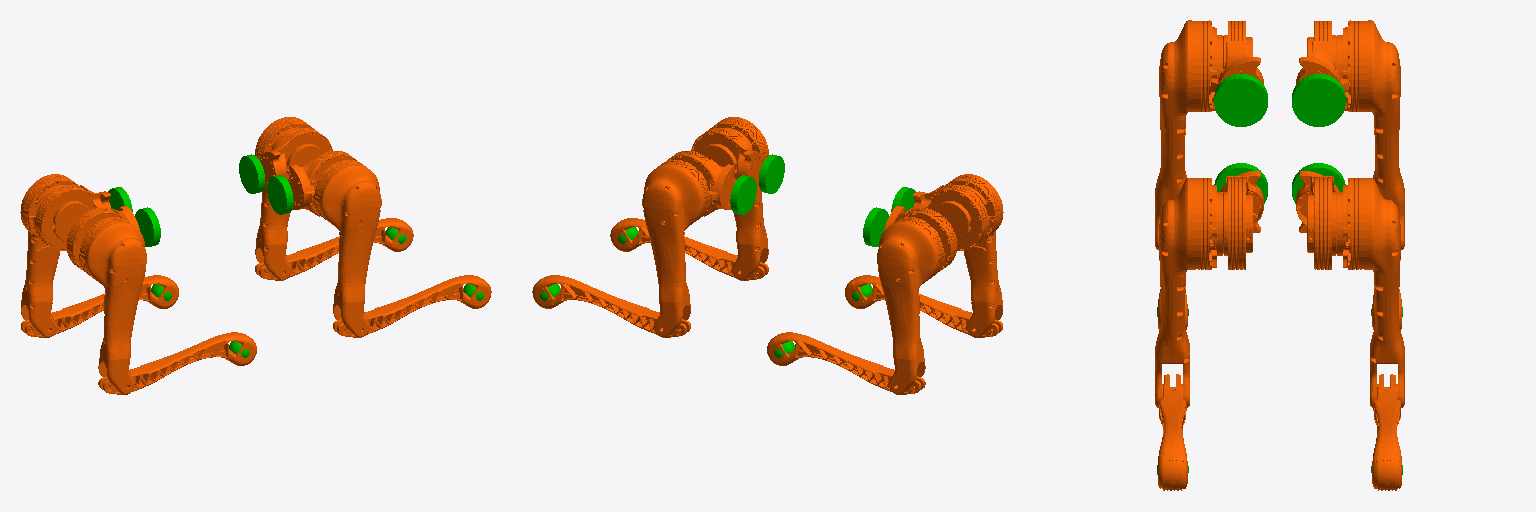
--- Render facts (derived) ---
The picture shows the robot from 3 angles, left to right: view 1: azimuth 30°, elevation 25°; view 2: azimuth 150°, elevation 25°; view 3: azimuth 270°, elevation 25°; orthographic projection.
Model b1_description with 31 links and 30 joints (12 revolute, 18 fixed), rooted at base, posed joints at zero except 4 at the middle of their limits (FR_calf_joint = -1.6, FL_calf_joint = -1.6, RR_calf_joint = -1.6, RL_calf_joint = -1.6).
Links seen in each view (by area): view 1: FR_thigh, RR_thigh, RL_thigh, FL_thigh, FR_calf, RR_calf, RL_hip, FL_hip, FL_calf, RL_calf, FR_hip, RR_hip (+3 smaller); view 2: FL_thigh, RL_thigh, RR_thigh, FR_thigh, FL_calf, RL_calf, RR_hip, FR_hip, FR_calf, RR_calf, FL_hip, RL_hip (+3 smaller); view 3: FR_thigh, FL_thigh, RL_thigh, RR_thigh, FR_hip, FL_hip, FR_calf, FL_calf, RR_hip_rotor, RL_hip_rotor, RR_hip, RL_hip (+2 smaller).
Boxes of the visible links, x1=… form: FR_thigh: x1=313, y1=160, x2=381, y2=337; RR_thigh: x1=79, y1=217, x2=146, y2=394; RL_thigh: x1=20, y1=174, x2=78, y2=337; FL_thigh: x1=255, y1=117, x2=314, y2=280; FR_calf: x1=333, y1=275, x2=491, y2=337; RR_calf: x1=98, y1=332, x2=256, y2=394; RL_hip: x1=35, y1=185, x2=110, y2=250; FL_hip: x1=260, y1=128, x2=332, y2=187; FL_calf: x1=255, y1=218, x2=413, y2=280; RL_calf: x1=21, y1=275, x2=178, y2=337; FR_hip: x1=288, y1=151, x2=356, y2=216; RR_hip: x1=67, y1=206, x2=139, y2=271; FL_thigh: x1=642, y1=160, x2=710, y2=337; RL_thigh: x1=877, y1=217, x2=944, y2=394; RR_thigh: x1=945, y1=174, x2=1003, y2=337; FR_thigh: x1=709, y1=117, x2=768, y2=280; FL_calf: x1=532, y1=275, x2=690, y2=337; RL_calf: x1=767, y1=332, x2=925, y2=394; RR_hip: x1=913, y1=185, x2=988, y2=250; FR_hip: x1=691, y1=128, x2=763, y2=187; FR_calf: x1=610, y1=218, x2=768, y2=280; RR_calf: x1=845, y1=275, x2=1002, y2=337; FL_hip: x1=667, y1=151, x2=735, y2=216; RL_hip: x1=884, y1=206, x2=956, y2=271; FR_thigh: x1=1155, y1=178, x2=1222, y2=407; FL_thigh: x1=1337, y1=178, x2=1404, y2=407; RL_thigh: x1=1337, y1=20, x2=1404, y2=249; RR_thigh: x1=1155, y1=20, x2=1222, y2=249; FR_hip: x1=1220, y1=171, x2=1263, y2=269; FL_hip: x1=1296, y1=171, x2=1339, y2=269; FR_calf: x1=1158, y1=374, x2=1187, y2=490; FL_calf: x1=1372, y1=374, x2=1401, y2=490; RR_hip_rotor: x1=1214, y1=74, x2=1267, y2=126; RL_hip_rotor: x1=1292, y1=74, x2=1345, y2=126; RR_hip: x1=1211, y1=21, x2=1263, y2=90; RL_hip: x1=1296, y1=21, x2=1348, y2=90.
Size in the robot's own frame: 1.17 by 0.4615 by 0.465 metres.
Meshes: 5 distinct files referenced, 12 mesh visuals loaded (4 Collada DAE); not drawn: 1 (reference not matched to a file when rendering).

The robot description file, URDF, robot "b1_description":
<?xml version="1.0" ?>
<!-- =================================================================================== -->
<!-- |    This document was autogenerated by xacro from robot.xacro                    | -->
<!-- |    EDITING THIS FILE BY HAND IS NOT RECOMMENDED                                 | -->
<!-- =================================================================================== -->
<robot name="b1_description">
  <material name="black">
    <color rgba="0.0 0.0 0.0 1.0"/>
  </material>
  <material name="blue">
    <color rgba="0.0 0.0 0.8 1.0"/>
  </material>
  <material name="green">
    <color rgba="0.0 0.8 0.0 1.0"/>
  </material>
  <material name="grey">
    <color rgba="0.2 0.2 0.2 1.0"/>
  </material>
  <material name="silver">
    <color rgba="0.9137254901960784 0.9137254901960784 0.8470588235294118 1.0"/>
  </material>
  <material name="orange">
    <color rgba="1.0 0.4235294117647059 0.0392156862745098 1.0"/>
  </material>
  <material name="brown">
    <color rgba="0.8705882352941177 0.8117647058823529 0.7647058823529411 1.0"/>
  </material>
  <material name="red">
    <color rgba="0.8 0.0 0.0 1.0"/>
  </material>
  <material name="white">
    <color rgba="1.0 1.0 1.0 1.0"/>
  </material>
  <!-- ros_control plugin -->
  <gazebo>
    <plugin filename="libgazebo_ros_control.so" name="gazebo_ros_control">
      <robotNamespace>/aliengo_gazebo</robotNamespace>
      <robotSimType>gazebo_ros_control/DefaultRobotHWSim</robotSimType>
    </plugin>
  </gazebo>
  <!-- Show the trajectory of trunk center. -->
  <gazebo>
    <plugin filename="libLinkPlot3DPlugin.so" name="3dplot">
      <frequency>10</frequency>
      <plot>
        <link>base</link>
        <pose>0 0 0 0 0 0</pose>
        <material>Gazebo/Yellow</material>
      </plot>
    </plugin>
  </gazebo>
  <!-- Show the trajectory of foot. You can add another trajectory about another foot. -->
  <!-- <gazebo>
        <plugin name="3dplot" filename="libLinkPlot3DPlugin.so">
            <frequency>100</frequency>
            <plot>
                <link>FL_foot</link>
                <pose>0 0 0 0 0 0</pose>
                <material>Gazebo/Green</material>
            </plot>
        </plugin>
    </gazebo> -->
  <gazebo>
    <plugin filename="libgazebo_ros_force.so" name="gazebo_ros_force">
      <bodyName>trunk</bodyName>
      <topicName>/apply_force/trunk</topicName>
    </plugin>
  </gazebo>
  <gazebo reference="imu_link">
    <gravity>true</gravity>
    <sensor name="imu_sensor" type="imu">
      <always_on>true</always_on>
      <update_rate>1000</update_rate>
      <visualize>true</visualize>
      <topic>__default_topic__</topic>
      <plugin filename="libgazebo_ros_imu_sensor.so" name="imu_plugin">
        <topicName>trunk_imu</topicName>
        <bodyName>imu_link</bodyName>
        <updateRateHZ>1000.0</updateRateHZ>
        <gaussianNoise>0.0</gaussianNoise>
        <xyzOffset>0 0 0</xyzOffset>
        <rpyOffset>0 0 0</rpyOffset>
        <frameName>imu_link</frameName>
      </plugin>
      <pose>0 0 0 0 0 0</pose>
    </sensor>
  </gazebo>
  <!-- Foot contacts. -->
  <gazebo reference="FR_calf">
    <sensor name="FR_foot_contact" type="contact">
      <update_rate>100</update_rate>
      <plugin filename="libunitreeFootContactPlugin.so" name="contactPlugin"/>
      <contact>
        <collision>FR_calf_fixed_joint_lump__FR_foot_collision_1</collision>
      </contact>
    </sensor>
  </gazebo>
  <gazebo reference="FL_calf">
    <sensor name="FL_foot_contact" type="contact">
      <update_rate>100</update_rate>
      <plugin filename="libunitreeFootContactPlugin.so" name="contactPlugin"/>
      <contact>
        <collision>FL_calf_fixed_joint_lump__FL_foot_collision_1</collision>
      </contact>
    </sensor>
  </gazebo>
  <gazebo reference="RR_calf">
    <sensor name="RR_foot_contact" type="contact">
      <update_rate>100</update_rate>
      <plugin filename="libunitreeFootContactPlugin.so" name="contactPlugin"/>
      <contact>
        <collision>RR_calf_fixed_joint_lump__RR_foot_collision_1</collision>
      </contact>
    </sensor>
  </gazebo>
  <gazebo reference="RL_calf">
    <sensor name="RL_foot_contact" type="contact">
      <update_rate>100</update_rate>
      <plugin filename="libunitreeFootContactPlugin.so" name="contactPlugin"/>
      <contact>
        <collision>RL_calf_fixed_joint_lump__RL_foot_collision_1</collision>
      </contact>
    </sensor>
  </gazebo>
  <!-- Visualization of Foot contacts. -->
  <gazebo reference="FR_foot">
    <visual>
      <plugin filename="libunitreeDrawForcePlugin.so" name="drawForcePlugin">
        <topicName>FR_foot_contact</topicName>
      </plugin>
    </visual>
  </gazebo>
  <gazebo reference="FL_foot">
    <visual>
      <plugin filename="libunitreeDrawForcePlugin.so" name="drawForcePlugin">
        <topicName>FL_foot_contact</topicName>
      </plugin>
    </visual>
  </gazebo>
  <gazebo reference="RR_foot">
    <visual>
      <plugin filename="libunitreeDrawForcePlugin.so" name="drawForcePlugin">
        <topicName>RR_foot_contact</topicName>
      </plugin>
    </visual>
  </gazebo>
  <gazebo reference="RL_foot">
    <visual>
      <plugin filename="libunitreeDrawForcePlugin.so" name="drawForcePlugin">
        <topicName>RL_foot_contact</topicName>
      </plugin>
    </visual>
  </gazebo>
  <gazebo reference="base">
    <material>Gazebo/Green</material>
    <turnGravityOff>false</turnGravityOff>
  </gazebo>
  <gazebo reference="trunk">
    <mu1>0.2</mu1>
    <mu2>0.2</mu2>
    <kp value="1000000.0"/>
    <kd value="1.0"/>
  </gazebo>
  <gazebo reference="stick_link">
    <mu1>0.2</mu1>
    <mu2>0.2</mu2>
    <material>Gazebo/White</material>
  </gazebo>
  <gazebo reference="imu_link">
    <mu1>0.2</mu1>
    <mu2>0.2</mu2>
    <material>Gazebo/Red</material>
  </gazebo>
  <!-- FL leg -->
  <gazebo reference="FL_hip">
    <mu1>0.2</mu1>
    <mu2>0.2</mu2>
    <material>Gazebo/DarkGrey</material>
  </gazebo>
  <gazebo reference="FL_thigh">
    <mu1>0.2</mu1>
    <mu2>0.2</mu2>
    <self_collide>1</self_collide>
    <material>Gazebo/DarkGrey</material>
    <kp value="1000000.0"/>
    <kd value="1.0"/>
  </gazebo>
  <gazebo reference="FL_calf">
    <mu1>0.2</mu1>
    <mu2>0.2</mu2>
    <self_collide>1</self_collide>
  </gazebo>
  <gazebo reference="FL_foot">
    <mu1>0.6</mu1>
    <mu2>0.6</mu2>
    <self_collide>1</self_collide>
    <material>Gazebo/DarkGrey</material>
    <kp value="1000000.0"/>
    <kd value="1.0"/>
  </gazebo>
  <!-- FR leg -->
  <gazebo reference="FR_hip">
    <mu1>0.2</mu1>
    <mu2>0.2</mu2>
    <material>Gazebo/DarkGrey</material>
  </gazebo>
  <gazebo reference="FR_thigh">
    <mu1>0.2</mu1>
    <mu2>0.2</mu2>
    <self_collide>1</self_collide>
    <material>Gazebo/DarkGrey</material>
    <kp value="1000000.0"/>
    <kd value="1.0"/>
  </gazebo>
  <gazebo reference="FR_calf">
    <mu1>0.2</mu1>
    <mu2>0.2</mu2>
    <self_collide>1</self_collide>
  </gazebo>
  <gazebo reference="FR_foot">
    <mu1>0.6</mu1>
    <mu2>0.6</mu2>
    <self_collide>1</self_collide>
    <material>Gazebo/DarkGrey</material>
    <kp value="1000000.0"/>
    <kd value="1.0"/>
  </gazebo>
  <!-- RL leg -->
  <gazebo reference="RL_hip">
    <mu1>0.2</mu1>
    <mu2>0.2</mu2>
    <material>Gazebo/DarkGrey</material>
  </gazebo>
  <gazebo reference="RL_thigh">
    <mu1>0.2</mu1>
    <mu2>0.2</mu2>
    <self_collide>1</self_collide>
    <material>Gazebo/DarkGrey</material>
    <kp value="1000000.0"/>
    <kd value="1.0"/>
  </gazebo>
  <gazebo reference="RL_calf">
    <mu1>0.2</mu1>
    <mu2>0.2</mu2>
    <self_collide>1</self_collide>
  </gazebo>
  <gazebo reference="RL_foot">
    <mu1>0.6</mu1>
    <mu2>0.6</mu2>
    <self_collide>1</self_collide>
    <material>Gazebo/DarkGrey</material>
    <kp value="1000000.0"/>
    <kd value="1.0"/>
  </gazebo>
  <!-- RR leg -->
  <gazebo reference="RR_hip">
    <mu1>0.2</mu1>
    <mu2>0.2</mu2>
    <material>Gazebo/DarkGrey</material>
  </gazebo>
  <gazebo reference="RR_thigh">
    <mu1>0.2</mu1>
    <mu2>0.2</mu2>
    <self_collide>1</self_collide>
    <material>Gazebo/DarkGrey</material>
    <kp value="1000000.0"/>
    <kd value="1.0"/>
  </gazebo>
  <gazebo reference="RR_calf">
    <mu1>0.2</mu1>
    <mu2>0.2</mu2>
    <self_collide>1</self_collide>
  </gazebo>
  <gazebo reference="RR_foot">
    <mu1>0.6</mu1>
    <mu2>0.6</mu2>
    <self_collide>1</self_collide>
    <material>Gazebo/DarkGrey</material>
    <kp value="1000000.0"/>
    <kd value="1.0"/>
  </gazebo>
  <!-- Rotor related joint and link is only for demonstrate location. -->
  <!-- Actually, the rotor will rotate and the joint is not fixed. Reduction ratio should be considered. -->
  <!-- Debug mode will hung up the robot, use "true" or "false" to switch it. -->
  <!-- <xacro:if value="$(arg DEBUG)">
        <link name="world"/>
        <joint name="base_static_joint" type="fixed">
            <origin rpy="0 0 0" xyz="0 0 0"/>
            <parent link="world"/>
            <child link="base"/>
        </joint>
    </xacro:if>  -->
  <link name="base">
    <visual>
      <origin rpy="0 0 0" xyz="0 0 0"/>
      <geometry>
        <box size="0.001 0.001 0.001"/>
      </geometry>
    </visual>
  </link>
  <joint name="floating_base" type="fixed">
    <origin rpy="0 0 0" xyz="0 0 0"/>
    <parent link="base"/>
    <child link="trunk"/>
  </joint>
  <link name="trunk">
    <visual>
      <origin rpy="0 0 0" xyz="0 0 0"/>
      <geometry>
        <mesh filename="package://b1_description/meshes/trunkb.dae" scale="1 1 1"/>
      </geometry>
      <material name="orange"/>
    </visual>
    <collision>
      <origin rpy="0 0 0" xyz="0 0 0"/>
      <geometry>
        <mesh filename="package://b1_description/meshes/trunkb.dae" scale="1 1 1"/>
      </geometry>
    </collision>
    <inertial>
      <origin rpy="0 0 0" xyz="0.008987 0.002243 0.003013"/>
      <mass value="29.45"/>
      <inertia ixx="0.183142146" ixy="-0.001379002" ixz="-0.027956055" iyy="0.756327752" iyz="0.000193774" izz="0.783777558"/>
    </inertial>
  </link>
  <joint name="imu_joint" type="fixed">
    <parent link="trunk"/>
    <child link="imu_link"/>
    <origin rpy="0 0 0" xyz="0 0 0"/>
  </joint>
  <link name="imu_link">
    <inertial>
      <mass value="0.001"/>
      <origin rpy="0 0 0" xyz="0 0 0"/>
      <inertia ixx="0.0001" ixy="0" ixz="0" iyy="0.000001" iyz="0" izz="0.0001"/>
    </inertial>
    <visual>
      <origin rpy="0 0 0" xyz="0 0 0"/>
      <geometry>
        <box size="0.001 0.001 0.001"/>
      </geometry>
      <material name="red"/>
    </visual>
    <collision>
      <origin rpy="0 0 0" xyz="0 0 0"/>
      <geometry>
        <box size=".001 .001 .001"/>
      </geometry>
    </collision>
  </link>
  <joint name="FR_hip_joint" type="revolute">
    <origin rpy="0 0 0" xyz="0.3455 -0.072 0"/>
    <parent link="trunk"/>
    <child link="FR_hip"/>
    <axis xyz="1 0 0"/>
    <dynamics damping="0" friction="0"/>
    <limit effort="91.0035" lower="-0.75" upper="0.75" velocity="19.69"/>
  </joint>
  <joint name="FR_hip_rotor_joint" type="fixed">
    <origin rpy="0 0 0" xyz="0.1955 -0.072 0"/>
    <parent link="trunk"/>
    <child link="FR_hip_rotor"/>
  </joint>
  <link name="FR_hip">
    <visual>
      <origin rpy="3.141592653589793 0 0" xyz="0 0 0"/>
      <geometry>
        <mesh filename="package://b1_description/meshes/hipb.dae" scale="1 1 1"/>
      </geometry>
      <material name="orange"/>
    </visual>
    <collision>
      <origin rpy="3.141592653589793 0 0" xyz="0 0 0"/>
      <geometry>
        <mesh filename="package://b1_description/meshes/hipb.dae" scale="1 1 1"/>
      </geometry>
    </collision>
    <inertial>
      <origin rpy="0 0 0" xyz="-0.020298 -0.009758 0.000109"/>
      <mass value="2.15"/>
      <inertia ixx="0.00406608" ixy="0.000288071" ixz="-4.371e-06" iyy="0.008775259" iyz="-1.811e-06" izz="0.006060348"/>
    </inertial>
  </link>
  <link name="FR_hip_rotor">
    <visual>
      <origin rpy="0 1.5707963267948966 0" xyz="0 0 0"/>
      <geometry>
        <cylinder length="0.02" radius="0.05"/>
      </geometry>
      <material name="green"/>
    </visual>
    <collision>
      <origin rpy="0 1.5707963267948966 0" xyz="0 0 0"/>
      <geometry>
        <cylinder length="0.02" radius="0.05"/>
      </geometry>
    </collision>
    <inertial>
      <origin rpy="0 0 0" xyz="0.0 0.0 0.0"/>
      <mass value="0.199"/>
      <inertia ixx="0.00039249" ixy="0.0" ixz="0.0" iyy="0.000219397" iyz="0.0" izz="0.000219397"/>
    </inertial>
  </link>
  <joint name="FR_thigh_joint" type="revolute">
    <origin rpy="0 0 0" xyz="0 -0.12675 0"/>
    <parent link="FR_hip"/>
    <child link="FR_thigh"/>
    <axis xyz="0 1 0"/>
    <dynamics damping="0" friction="0"/>
    <limit effort="93.33" lower="-1.0" upper="3.5" velocity="23.32"/>
  </joint>
  <joint name="FR_thigh_rotor_joint" type="fixed">
    <origin rpy="0 0 0" xyz="0.0 -0.00935 0"/>
    <parent link="FR_hip"/>
    <child link="FR_thigh_rotor"/>
  </joint>
  <link name="FR_thigh">
    <visual>
      <origin rpy="0 0 0" xyz="0 0 0"/>
      <geometry>
        <mesh filename="package://b1_description/meshes/thigh_mirrorb.dae" scale="1 1 1"/>
      </geometry>
      <material name="orange"/>
    </visual>
    <collision>
      <origin rpy="0 0 0" xyz="0 0 0"/>
      <geometry>
        <mesh filename="package://b1_description/meshes/thigh_mirrorb.dae" scale="1 1 1"/>
      </geometry>
    </collision>
    <inertial>
      <origin rpy="0 0 0" xyz="-0.000235 0.028704 -0.054169"/>
      <mass value="4.3"/>
      <inertia ixx="0.044459086" ixy="-0.000128738" ixz="-0.002343913" iyy="0.046023457" iyz="-0.006032996" izz="0.008696078"/>
    </inertial>
  </link>
  <link name="FR_thigh_rotor">
    <visual>
      <origin rpy="1.5707963267948966 0 0" xyz="0 0 0"/>
      <geometry>
        <cylinder length="0.02" radius="0.05"/>
      </geometry>
      <material name="green"/>
    </visual>
    <collision>
      <origin rpy="1.5707963267948966 0 0" xyz="0 0 0"/>
      <geometry>
        <cylinder length="0.02" radius="0.05"/>
      </geometry>
    </collision>
    <inertial>
      <origin rpy="0 0 0" xyz="0.0 0.0 0.0"/>
      <mass value="0.266"/>
      <inertia ixx="0.000485657" ixy="0.0" ixz="0.0" iyy="0.00091885" iyz="0.0" izz="0.000485657"/>
    </inertial>
  </link>
  <joint name="FR_calf_joint" type="revolute">
    <origin rpy="0 0 0" xyz="0 0 -0.35"/>
    <parent link="FR_thigh"/>
    <child link="FR_calf"/>
    <axis xyz="0 1 0"/>
    <dynamics damping="0" friction="0"/>
    <limit effort="140" lower="-2.6" upper="-0.6" velocity="15.55"/>
  </joint>
  <joint name="FR_calf_rotor_joint" type="fixed">
    <origin rpy="0 0 0" xyz="0.0 0.0519 0"/>
    <parent link="FR_thigh"/>
    <child link="FR_calf_rotor"/>
  </joint>
  <link name="FR_calf">
    <visual>
      <origin rpy="0 0 0" xyz="0 0 0"/>
      <geometry>
        <mesh filename="package://b1_description/meshes/calfb.dae" scale="1 1 1"/>
      </geometry>
      <material name="orange"/>
    </visual>
    <collision>
      <origin rpy="0 0 0" xyz="0 0 0"/>
      <geometry>
        <mesh filename="package://b1_description/meshes/calfb.dae" scale="1 1 1"/>
      </geometry>
    </collision>
    <inertial>
      <origin rpy="0 0 0" xyz="0.005237 0.0 -0.202805"/>
      <mass value="1.05"/>
      <inertia ixx="0.015011003" ixy="5.2e-08" ixz="0.000250042" iyy="0.015159462" iyz="4.61e-07" izz="0.000375749"/>
    </inertial>
  </link>
  <link name="FR_calf_rotor">
    <visual>
      <origin rpy="1.5707963267948966 0 0" xyz="0 0 0"/>
      <geometry>
        <cylinder length="0.02" radius="0.05"/>
      </geometry>
      <material name="green"/>
    </visual>
    <collision>
      <origin rpy="1.5707963267948966 0 0" xyz="0 0 0"/>
      <geometry>
        <cylinder length="0.02" radius="0.05"/>
      </geometry>
    </collision>
    <inertial>
      <origin rpy="0 0 0" xyz="0.0 0.0 0.0"/>
      <mass value="0.266"/>
      <inertia ixx="0.000485657" ixy="0.0" ixz="0.0" iyy="0.00091885" iyz="0.0" izz="0.000485657"/>
    </inertial>
  </link>
  <joint name="FR_foot_fixed" type="fixed">
    <origin rpy="0 0 0" xyz="0 0 -0.35"/>
    <parent link="FR_calf"/>
    <child link="FR_foot"/>
  </joint>
  <link name="FR_foot">
    <visual>
      <origin rpy="0 0 0" xyz="0 0 0"/>
      <geometry>
        <sphere radius="0.03"/>
      </geometry>
      <material name="green"/>
    </visual>
    <collision>
      <origin rpy="0 0 0" xyz="0 0 0"/>
      <geometry>
        <sphere radius="0.04"/>
      </geometry>
    </collision>
    <inertial>
      <mass value="0.05"/>
      <inertia ixx="3.2000000000000005e-05" ixy="0.0" ixz="0.0" iyy="3.2000000000000005e-05" iyz="0.0" izz="3.2000000000000005e-05"/>
    </inertial>
  </link>
  <transmission name="FR_hip_tran">
    <type>transmission_interface/SimpleTransmission</type>
    <joint name="FR_hip_joint">
      <hardwareInterface>hardware_interface/EffortJointInterface</hardwareInterface>
    </joint>
    <actuator name="FR_hip_motor">
      <hardwareInterface>hardware_interface/EffortJointInterface</hardwareInterface>
      <mechanicalReduction>1</mechanicalReduction>
    </actuator>
  </transmission>
  <transmission name="FR_thigh_tran">
    <type>transmission_interface/SimpleTransmission</type>
    <joint name="FR_thigh_joint">
      <hardwareInterface>hardware_interface/EffortJointInterface</hardwareInterface>
    </joint>
    <actuator name="FR_thigh_motor">
      <hardwareInterface>hardware_interface/EffortJointInterface</hardwareInterface>
      <mechanicalReduction>1</mechanicalReduction>
    </actuator>
  </transmission>
  <transmission name="FR_calf_tran">
    <type>transmission_interface/SimpleTransmission</type>
    <joint name="FR_calf_joint">
      <hardwareInterface>hardware_interface/EffortJointInterface</hardwareInterface>
    </joint>
    <actuator name="FR_calf_motor">
      <hardwareInterface>hardware_interface/EffortJointInterface</hardwareInterface>
      <mechanicalReduction>1</mechanicalReduction>
    </actuator>
  </transmission>
  <joint name="FL_hip_joint" type="revolute">
    <origin rpy="0 0 0" xyz="0.3455 0.072 0"/>
    <parent link="trunk"/>
    <child link="FL_hip"/>
    <axis xyz="1 0 0"/>
    <dynamics damping="0" friction="0"/>
    <limit effort="91.0035" lower="-0.75" upper="0.75" velocity="19.69"/>
  </joint>
  <joint name="FL_hip_rotor_joint" type="fixed">
    <origin rpy="0 0 0" xyz="0.1955 0.072 0"/>
    <parent link="trunk"/>
    <child link="FL_hip_rotor"/>
  </joint>
  <link name="FL_hip">
    <visual>
      <origin rpy="0 0 0" xyz="0 0 0"/>
      <geometry>
        <mesh filename="package://b1_description/meshes/hipb.dae" scale="1 1 1"/>
      </geometry>
      <material name="orange"/>
    </visual>
    <collision>
      <origin rpy="0 0 0" xyz="0 0 0"/>
      <geometry>
        <mesh filename="package://b1_description/meshes/hipb.dae" scale="1 1 1"/>
      </geometry>
    </collision>
    <inertial>
      <origin rpy="0 0 0" xyz="-0.020298 0.009758 0.000109"/>
      <mass value="2.15"/>
      <inertia ixx="0.00406608" ixy="-0.000288071" ixz="-4.371e-06" iyy="0.008775259" iyz="1.811e-06" izz="0.006060348"/>
    </inertial>
  </link>
  <link name="FL_hip_rotor">
    <visual>
      <origin rpy="0 1.5707963267948966 0" xyz="0 0 0"/>
      <geometry>
        <cylinder length="0.02" radius="0.05"/>
      </geometry>
      <material name="green"/>
    </visual>
    <collision>
      <origin rpy="0 1.5707963267948966 0" xyz="0 0 0"/>
      <geometry>
        <cylinder length="0.02" radius="0.05"/>
      </geometry>
    </collision>
    <inertial>
      <origin rpy="0 0 0" xyz="0.0 0.0 0.0"/>
      <mass value="0.199"/>
      <inertia ixx="0.00039249" ixy="0.0" ixz="0.0" iyy="0.000219397" iyz="0.0" izz="0.000219397"/>
    </inertial>
  </link>
  <joint name="FL_thigh_joint" type="revolute">
    <origin rpy="0 0 0" xyz="0 0.12675 0"/>
    <parent link="FL_hip"/>
    <child link="FL_thigh"/>
    <axis xyz="0 1 0"/>
    <dynamics damping="0" friction="0"/>
    <limit effort="93.33" lower="-1.0" upper="3.5" velocity="23.32"/>
  </joint>
  <joint name="FL_thigh_rotor_joint" type="fixed">
    <origin rpy="0 0 0" xyz="0.0 0.00935 0"/>
    <parent link="FL_hip"/>
    <child link="FL_thigh_rotor"/>
  </joint>
  <link name="FL_thigh">
    <visual>
      <origin rpy="0 0 0" xyz="0 0 0"/>
      <geometry>
        <mesh filename="package://b1_description/meshes/thighb.dae" scale="1 1 1"/>
      </geometry>
      <material name="orange"/>
    </visual>
    <collision>
      <origin rpy="0 0 0" xyz="0 0 0"/>
      <geometry>
        <mesh filename="package://b1_description/meshes/thighb.dae" scale="1 1 1"/>
      </geometry>
    </collision>
    <inertial>
      <origin rpy="0 0 0" xyz="-0.000235 -0.028704 -0.054169"/>
      <mass value="4.3"/>
      <inertia ixx="0.044459086" ixy="0.000128738" ixz="-0.002343913" iyy="0.046023457" iyz="0.006032996" izz="0.008696078"/>
    </inertial>
  </link>
  <link name="FL_thigh_rotor">
    <visual>
      <origin rpy="1.5707963267948966 0 0" xyz="0 0 0"/>
      <geometry>
        <cylinder length="0.02" radius="0.05"/>
      </geometry>
      <material name="green"/>
    </visual>
    <collision>
      <origin rpy="1.5707963267948966 0 0" xyz="0 0 0"/>
      <geometry>
        <cylinder length="0.02" radius="0.05"/>
      </geometry>
    </collision>
    <inertial>
      <origin rpy="0 0 0" xyz="0.0 0.0 0.0"/>
      <mass value="0.266"/>
      <inertia ixx="0.000485657" ixy="0.0" ixz="0.0" iyy="0.00091885" iyz="0.0" izz="0.000485657"/>
    </inertial>
  </link>
  <joint name="FL_calf_joint" type="revolute">
    <origin rpy="0 0 0" xyz="0 0 -0.35"/>
    <parent link="FL_thigh"/>
    <child link="FL_calf"/>
    <axis xyz="0 1 0"/>
    <dynamics damping="0" friction="0"/>
    <limit effort="140" lower="-2.6" upper="-0.6" velocity="15.55"/>
  </joint>
  <joint name="FL_calf_rotor_joint" type="fixed">
    <origin rpy="0 0 0" xyz="0.0 -0.0519 0"/>
    <parent link="FL_thigh"/>
    <child link="FL_calf_rotor"/>
  </joint>
  <link name="FL_calf">
    <visual>
      <origin rpy="0 0 0" xyz="0 0 0"/>
      <geometry>
        <mesh filename="package://b1_description/meshes/calfb.dae" scale="1 1 1"/>
      </geometry>
      <material name="orange"/>
    </visual>
    <collision>
      <origin rpy="0 0 0" xyz="0 0 0"/>
      <geometry>
        <mesh filename="package://b1_description/meshes/calfb.dae" scale="1 1 1"/>
      </geometry>
    </collision>
    <inertial>
      <origin rpy="0 0 0" xyz="0.005237 0.0 -0.202805"/>
      <mass value="1.05"/>
      <inertia ixx="0.015011003" ixy="5.2e-08" ixz="0.000250042" iyy="0.015159462" iyz="4.61e-07" izz="0.000375749"/>
    </inertial>
  </link>
  <link name="FL_calf_rotor">
    <visual>
      <origin rpy="1.5707963267948966 0 0" xyz="0 0 0"/>
      <geometry>
        <cylinder length="0.02" radius="0.05"/>
      </geometry>
      <material name="green"/>
    </visual>
    <collision>
      <origin rpy="1.5707963267948966 0 0" xyz="0 0 0"/>
      <geometry>
        <cylinder length="0.02" radius="0.05"/>
      </geometry>
    </collision>
    <inertial>
      <origin rpy="0 0 0" xyz="0.0 0.0 0.0"/>
      <mass value="0.266"/>
      <inertia ixx="0.000485657" ixy="0.0" ixz="0.0" iyy="0.00091885" iyz="0.0" izz="0.000485657"/>
    </inertial>
  </link>
  <joint name="FL_foot_fixed" type="fixed">
    <origin rpy="0 0 0" xyz="0 0 -0.35"/>
    <parent link="FL_calf"/>
    <child link="FL_foot"/>
  </joint>
  <link name="FL_foot">
    <visual>
      <origin rpy="0 0 0" xyz="0 0 0"/>
      <geometry>
        <sphere radius="0.03"/>
      </geometry>
      <material name="green"/>
    </visual>
    <collision>
      <origin rpy="0 0 0" xyz="0 0 0"/>
      <geometry>
        <sphere radius="0.04"/>
      </geometry>
    </collision>
    <inertial>
      <mass value="0.05"/>
      <inertia ixx="3.2000000000000005e-05" ixy="0.0" ixz="0.0" iyy="3.2000000000000005e-05" iyz="0.0" izz="3.2000000000000005e-05"/>
    </inertial>
  </link>
  <transmission name="FL_hip_tran">
    <type>transmission_interface/SimpleTransmission</type>
    <joint name="FL_hip_joint">
      <hardwareInterface>hardware_interface/EffortJointInterface</hardwareInterface>
    </joint>
    <actuator name="FL_hip_motor">
      <hardwareInterface>hardware_interface/EffortJointInterface</hardwareInterface>
      <mechanicalReduction>1</mechanicalReduction>
    </actuator>
  </transmission>
  <transmission name="FL_thigh_tran">
    <type>transmission_interface/SimpleTransmission</type>
    <joint name="FL_thigh_joint">
      <hardwareInterface>hardware_interface/EffortJointInterface</hardwareInterface>
    </joint>
    <actuator name="FL_thigh_motor">
      <hardwareInterface>hardware_interface/EffortJointInterface</hardwareInterface>
      <mechanicalReduction>1</mechanicalReduction>
    </actuator>
  </transmission>
  <transmission name="FL_calf_tran">
    <type>transmission_interface/SimpleTransmission</type>
    <joint name="FL_calf_joint">
      <hardwareInterface>hardware_interface/EffortJointInterface</hardwareInterface>
    </joint>
    <actuator name="FL_calf_motor">
      <hardwareInterface>hardware_interface/EffortJointInterface</hardwareInterface>
      <mechanicalReduction>1</mechanicalReduction>
    </actuator>
  </transmission>
  <joint name="RR_hip_joint" type="revolute">
    <origin rpy="0 0 0" xyz="-0.3455 -0.072 0"/>
    <parent link="trunk"/>
    <child link="RR_hip"/>
    <axis xyz="1 0 0"/>
    <dynamics damping="0" friction="0"/>
    <limit effort="91.0035" lower="-0.75" upper="0.75" velocity="19.69"/>
  </joint>
  <joint name="RR_hip_rotor_joint" type="fixed">
    <origin rpy="0 0 0" xyz="-0.1955 -0.072 0"/>
    <parent link="trunk"/>
    <child link="RR_hip_rotor"/>
  </joint>
  <link name="RR_hip">
    <visual>
      <origin rpy="3.141592653589793 3.141592653589793 0" xyz="0 0 0"/>
      <geometry>
        <mesh filename="package://b1_description/meshes/hipb.dae" scale="1 1 1"/>
      </geometry>
      <material name="orange"/>
    </visual>
    <collision>
      <origin rpy="3.141592653589793 3.141592653589793 0" xyz="0 0 0"/>
      <geometry>
        <mesh filename="package://b1_description/meshes/hipb.dae" scale="1 1 1"/>
      </geometry>
    </collision>
    <inertial>
      <origin rpy="0 0 0" xyz="0.020298 -0.009758 0.000109"/>
      <mass value="2.15"/>
      <inertia ixx="0.00406608" ixy="-0.000288071" ixz="4.371e-06" iyy="0.008775259" iyz="-1.811e-06" izz="0.006060348"/>
    </inertial>
  </link>
  <link name="RR_hip_rotor">
    <visual>
      <origin rpy="0 1.5707963267948966 0" xyz="0 0 0"/>
      <geometry>
        <cylinder length="0.02" radius="0.05"/>
      </geometry>
      <material name="green"/>
    </visual>
    <collision>
      <origin rpy="0 1.5707963267948966 0" xyz="0 0 0"/>
      <geometry>
        <cylinder length="0.02" radius="0.05"/>
      </geometry>
    </collision>
    <inertial>
      <origin rpy="0 0 0" xyz="0.0 0.0 0.0"/>
      <mass value="0.199"/>
      <inertia ixx="0.00039249" ixy="0.0" ixz="0.0" iyy="0.000219397" iyz="0.0" izz="0.000219397"/>
    </inertial>
  </link>
  <joint name="RR_thigh_joint" type="revolute">
    <origin rpy="0 0 0" xyz="0 -0.12675 0"/>
    <parent link="RR_hip"/>
    <child link="RR_thigh"/>
    <axis xyz="0 1 0"/>
    <dynamics damping="0" friction="0"/>
    <limit effort="93.33" lower="-1.0" upper="3.5" velocity="23.32"/>
  </joint>
  <joint name="RR_thigh_rotor_joint" type="fixed">
    <origin rpy="0 0 0" xyz="0.0 -0.00935 0"/>
    <parent link="RR_hip"/>
    <child link="RR_thigh_rotor"/>
  </joint>
  <link name="RR_thigh">
    <visual>
      <origin rpy="0 0 0" xyz="0 0 0"/>
      <geometry>
        <mesh filename="package://b1_description/meshes/thigh_mirrorb.dae" scale="1 1 1"/>
      </geometry>
      <material name="orange"/>
    </visual>
    <collision>
      <origin rpy="0 0 0" xyz="0 0 0"/>
      <geometry>
        <mesh filename="package://b1_description/meshes/thigh_mirrorb.dae" scale="1 1 1"/>
      </geometry>
    </collision>
    <inertial>
      <origin rpy="0 0 0" xyz="-0.000235 0.028704 -0.054169"/>
      <mass value="4.3"/>
      <inertia ixx="0.044459086" ixy="-0.000128738" ixz="-0.002343913" iyy="0.046023457" iyz="-0.006032996" izz="0.008696078"/>
    </inertial>
  </link>
  <link name="RR_thigh_rotor">
    <visual>
      <origin rpy="1.5707963267948966 0 0" xyz="0 0 0"/>
      <geometry>
        <cylinder length="0.02" radius="0.05"/>
      </geometry>
      <material name="green"/>
    </visual>
    <collision>
      <origin rpy="1.5707963267948966 0 0" xyz="0 0 0"/>
      <geometry>
        <cylinder length="0.02" radius="0.05"/>
      </geometry>
    </collision>
    <inertial>
      <origin rpy="0 0 0" xyz="0.0 0.0 0.0"/>
      <mass value="0.266"/>
      <inertia ixx="0.000485657" ixy="0.0" ixz="0.0" iyy="0.00091885" iyz="0.0" izz="0.000485657"/>
    </inertial>
  </link>
  <joint name="RR_calf_joint" type="revolute">
    <origin rpy="0 0 0" xyz="0 0 -0.35"/>
    <parent link="RR_thigh"/>
    <child link="RR_calf"/>
    <axis xyz="0 1 0"/>
    <dynamics damping="0" friction="0"/>
    <limit effort="140" lower="-2.6" upper="-0.6" velocity="15.55"/>
  </joint>
  <joint name="RR_calf_rotor_joint" type="fixed">
    <origin rpy="0 0 0" xyz="0.0 0.0519 0"/>
    <parent link="RR_thigh"/>
    <child link="RR_calf_rotor"/>
  </joint>
  <link name="RR_calf">
    <visual>
      <origin rpy="0 0 0" xyz="0 0 0"/>
      <geometry>
        <mesh filename="package://b1_description/meshes/calfb.dae" scale="1 1 1"/>
      </geometry>
      <material name="orange"/>
    </visual>
    <collision>
      <origin rpy="0 0 0" xyz="0 0 0"/>
      <geometry>
        <mesh filename="package://b1_description/meshes/calfb.dae" scale="1 1 1"/>
      </geometry>
    </collision>
    <inertial>
      <origin rpy="0 0 0" xyz="0.005237 0.0 -0.202805"/>
      <mass value="1.05"/>
      <inertia ixx="0.015011003" ixy="5.2e-08" ixz="0.000250042" iyy="0.015159462" iyz="4.61e-07" izz="0.000375749"/>
    </inertial>
  </link>
  <link name="RR_calf_rotor">
    <visual>
      <origin rpy="1.5707963267948966 0 0" xyz="0 0 0"/>
      <geometry>
        <cylinder length="0.02" radius="0.05"/>
      </geometry>
      <material name="green"/>
    </visual>
    <collision>
      <origin rpy="1.5707963267948966 0 0" xyz="0 0 0"/>
      <geometry>
        <cylinder length="0.02" radius="0.05"/>
      </geometry>
    </collision>
    <inertial>
      <origin rpy="0 0 0" xyz="0.0 0.0 0.0"/>
      <mass value="0.266"/>
      <inertia ixx="0.000485657" ixy="0.0" ixz="0.0" iyy="0.00091885" iyz="0.0" izz="0.000485657"/>
    </inertial>
  </link>
  <joint name="RR_foot_fixed" type="fixed">
    <origin rpy="0 0 0" xyz="0 0 -0.35"/>
    <parent link="RR_calf"/>
    <child link="RR_foot"/>
  </joint>
  <link name="RR_foot">
    <visual>
      <origin rpy="0 0 0" xyz="0 0 0"/>
      <geometry>
        <sphere radius="0.03"/>
      </geometry>
      <material name="green"/>
    </visual>
    <collision>
      <origin rpy="0 0 0" xyz="0 0 0"/>
      <geometry>
        <sphere radius="0.04"/>
      </geometry>
    </collision>
    <inertial>
      <mass value="0.05"/>
      <inertia ixx="3.2000000000000005e-05" ixy="0.0" ixz="0.0" iyy="3.2000000000000005e-05" iyz="0.0" izz="3.2000000000000005e-05"/>
    </inertial>
  </link>
  <transmission name="RR_hip_tran">
    <type>transmission_interface/SimpleTransmission</type>
    <joint name="RR_hip_joint">
      <hardwareInterface>hardware_interface/EffortJointInterface</hardwareInterface>
    </joint>
    <actuator name="RR_hip_motor">
      <hardwareInterface>hardware_interface/EffortJointInterface</hardwareInterface>
      <mechanicalReduction>1</mechanicalReduction>
    </actuator>
  </transmission>
  <transmission name="RR_thigh_tran">
    <type>transmission_interface/SimpleTransmission</type>
    <joint name="RR_thigh_joint">
      <hardwareInterface>hardware_interface/EffortJointInterface</hardwareInterface>
    </joint>
    <actuator name="RR_thigh_motor">
      <hardwareInterface>hardware_interface/EffortJointInterface</hardwareInterface>
      <mechanicalReduction>1</mechanicalReduction>
    </actuator>
  </transmission>
  <transmission name="RR_calf_tran">
    <type>transmission_interface/SimpleTransmission</type>
    <joint name="RR_calf_joint">
      <hardwareInterface>hardware_interface/EffortJointInterface</hardwareInterface>
    </joint>
    <actuator name="RR_calf_motor">
      <hardwareInterface>hardware_interface/EffortJointInterface</hardwareInterface>
      <mechanicalReduction>1</mechanicalReduction>
    </actuator>
  </transmission>
  <joint name="RL_hip_joint" type="revolute">
    <origin rpy="0 0 0" xyz="-0.3455 0.072 0"/>
    <parent link="trunk"/>
    <child link="RL_hip"/>
    <axis xyz="1 0 0"/>
    <dynamics damping="0" friction="0"/>
    <limit effort="91.0035" lower="-0.75" upper="0.75" velocity="19.69"/>
  </joint>
  <joint name="RL_hip_rotor_joint" type="fixed">
    <origin rpy="0 0 0" xyz="-0.1955 0.072 0"/>
    <parent link="trunk"/>
    <child link="RL_hip_rotor"/>
  </joint>
  <link name="RL_hip">
    <visual>
      <origin rpy="0 3.141592653589793 0" xyz="0 0 0"/>
      <geometry>
        <mesh filename="package://b1_description/meshes/hipb.dae" scale="1 1 1"/>
      </geometry>
      <material name="orange"/>
    </visual>
    <collision>
      <origin rpy="0 3.141592653589793 0" xyz="0 0 0"/>
      <geometry>
        <mesh filename="package://b1_description/meshes/hipb.dae" scale="1 1 1"/>
      </geometry>
    </collision>
    <inertial>
      <origin rpy="0 0 0" xyz="0.020298 0.009758 0.000109"/>
      <mass value="2.15"/>
      <inertia ixx="0.00406608" ixy="0.000288071" ixz="4.371e-06" iyy="0.008775259" iyz="1.811e-06" izz="0.006060348"/>
    </inertial>
  </link>
  <link name="RL_hip_rotor">
    <visual>
      <origin rpy="0 1.5707963267948966 0" xyz="0 0 0"/>
      <geometry>
        <cylinder length="0.02" radius="0.05"/>
      </geometry>
      <material name="green"/>
    </visual>
    <collision>
      <origin rpy="0 1.5707963267948966 0" xyz="0 0 0"/>
      <geometry>
        <cylinder length="0.02" radius="0.05"/>
      </geometry>
    </collision>
    <inertial>
      <origin rpy="0 0 0" xyz="0.0 0.0 0.0"/>
      <mass value="0.199"/>
      <inertia ixx="0.00039249" ixy="0.0" ixz="0.0" iyy="0.000219397" iyz="0.0" izz="0.000219397"/>
    </inertial>
  </link>
  <joint name="RL_thigh_joint" type="revolute">
    <origin rpy="0 0 0" xyz="0 0.12675 0"/>
    <parent link="RL_hip"/>
    <child link="RL_thigh"/>
    <axis xyz="0 1 0"/>
    <dynamics damping="0" friction="0"/>
    <limit effort="93.33" lower="-1.0" upper="3.5" velocity="23.32"/>
  </joint>
  <joint name="RL_thigh_rotor_joint" type="fixed">
    <origin rpy="0 0 0" xyz="0.0 0.00935 0"/>
    <parent link="RL_hip"/>
    <child link="RL_thigh_rotor"/>
  </joint>
  <link name="RL_thigh">
    <visual>
      <origin rpy="0 0 0" xyz="0 0 0"/>
      <geometry>
        <mesh filename="package://b1_description/meshes/thighb.dae" scale="1 1 1"/>
      </geometry>
      <material name="orange"/>
    </visual>
    <collision>
      <origin rpy="0 0 0" xyz="0 0 0"/>
      <geometry>
        <mesh filename="package://b1_description/meshes/thighb.dae" scale="1 1 1"/>
      </geometry>
    </collision>
    <inertial>
      <origin rpy="0 0 0" xyz="-0.000235 -0.028704 -0.054169"/>
      <mass value="4.3"/>
      <inertia ixx="0.044459086" ixy="0.000128738" ixz="-0.002343913" iyy="0.046023457" iyz="0.006032996" izz="0.008696078"/>
    </inertial>
  </link>
  <link name="RL_thigh_rotor">
    <visual>
      <origin rpy="1.5707963267948966 0 0" xyz="0 0 0"/>
      <geometry>
        <cylinder length="0.02" radius="0.05"/>
      </geometry>
      <material name="green"/>
    </visual>
    <collision>
      <origin rpy="1.5707963267948966 0 0" xyz="0 0 0"/>
      <geometry>
        <cylinder length="0.02" radius="0.05"/>
      </geometry>
    </collision>
    <inertial>
      <origin rpy="0 0 0" xyz="0.0 0.0 0.0"/>
      <mass value="0.266"/>
      <inertia ixx="0.000485657" ixy="0.0" ixz="0.0" iyy="0.00091885" iyz="0.0" izz="0.000485657"/>
    </inertial>
  </link>
  <joint name="RL_calf_joint" type="revolute">
    <origin rpy="0 0 0" xyz="0 0 -0.35"/>
    <parent link="RL_thigh"/>
    <child link="RL_calf"/>
    <axis xyz="0 1 0"/>
    <dynamics damping="0" friction="0"/>
    <limit effort="140" lower="-2.6" upper="-0.6" velocity="15.55"/>
  </joint>
  <joint name="RL_calf_rotor_joint" type="fixed">
    <origin rpy="0 0 0" xyz="0.0 -0.0519 0"/>
    <parent link="RL_thigh"/>
    <child link="RL_calf_rotor"/>
  </joint>
  <link name="RL_calf">
    <visual>
      <origin rpy="0 0 0" xyz="0 0 0"/>
      <geometry>
        <mesh filename="package://b1_description/meshes/calfb.dae" scale="1 1 1"/>
      </geometry>
      <material name="orange"/>
    </visual>
    <collision>
      <origin rpy="0 0 0" xyz="0 0 0"/>
      <geometry>
        <mesh filename="package://b1_description/meshes/calfb.dae" scale="1 1 1"/>
      </geometry>
    </collision>
    <inertial>
      <origin rpy="0 0 0" xyz="0.005237 0.0 -0.202805"/>
      <mass value="1.05"/>
      <inertia ixx="0.015011003" ixy="5.2e-08" ixz="0.000250042" iyy="0.015159462" iyz="4.61e-07" izz="0.000375749"/>
    </inertial>
  </link>
  <link name="RL_calf_rotor">
    <visual>
      <origin rpy="1.5707963267948966 0 0" xyz="0 0 0"/>
      <geometry>
        <cylinder length="0.02" radius="0.05"/>
      </geometry>
      <material name="green"/>
    </visual>
    <collision>
      <origin rpy="1.5707963267948966 0 0" xyz="0 0 0"/>
      <geometry>
        <cylinder length="0.02" radius="0.05"/>
      </geometry>
    </collision>
    <inertial>
      <origin rpy="0 0 0" xyz="0.0 0.0 0.0"/>
      <mass value="0.266"/>
      <inertia ixx="0.000485657" ixy="0.0" ixz="0.0" iyy="0.00091885" iyz="0.0" izz="0.000485657"/>
    </inertial>
  </link>
  <joint name="RL_foot_fixed" type="fixed">
    <origin rpy="0 0 0" xyz="0 0 -0.35"/>
    <parent link="RL_calf"/>
    <child link="RL_foot"/>
  </joint>
  <link name="RL_foot">
    <visual>
      <origin rpy="0 0 0" xyz="0 0 0"/>
      <geometry>
        <sphere radius="0.03"/>
      </geometry>
      <material name="green"/>
    </visual>
    <collision>
      <origin rpy="0 0 0" xyz="0 0 0"/>
      <geometry>
        <sphere radius="0.04"/>
      </geometry>
    </collision>
    <inertial>
      <mass value="0.05"/>
      <inertia ixx="3.2000000000000005e-05" ixy="0.0" ixz="0.0" iyy="3.2000000000000005e-05" iyz="0.0" izz="3.2000000000000005e-05"/>
    </inertial>
  </link>
  <transmission name="RL_hip_tran">
    <type>transmission_interface/SimpleTransmission</type>
    <joint name="RL_hip_joint">
      <hardwareInterface>hardware_interface/EffortJointInterface</hardwareInterface>
    </joint>
    <actuator name="RL_hip_motor">
      <hardwareInterface>hardware_interface/EffortJointInterface</hardwareInterface>
      <mechanicalReduction>1</mechanicalReduction>
    </actuator>
  </transmission>
  <transmission name="RL_thigh_tran">
    <type>transmission_interface/SimpleTransmission</type>
    <joint name="RL_thigh_joint">
      <hardwareInterface>hardware_interface/EffortJointInterface</hardwareInterface>
    </joint>
    <actuator name="RL_thigh_motor">
      <hardwareInterface>hardware_interface/EffortJointInterface</hardwareInterface>
      <mechanicalReduction>1</mechanicalReduction>
    </actuator>
  </transmission>
  <transmission name="RL_calf_tran">
    <type>transmission_interface/SimpleTransmission</type>
    <joint name="RL_calf_joint">
      <hardwareInterface>hardware_interface/EffortJointInterface</hardwareInterface>
    </joint>
    <actuator name="RL_calf_motor">
      <hardwareInterface>hardware_interface/EffortJointInterface</hardwareInterface>
      <mechanicalReduction>1</mechanicalReduction>
    </actuator>
  </transmission>
  <!-- <xacro:stairs stairs="15" xpos="0" ypos="2.0" zpos="0" /> -->
</robot>
